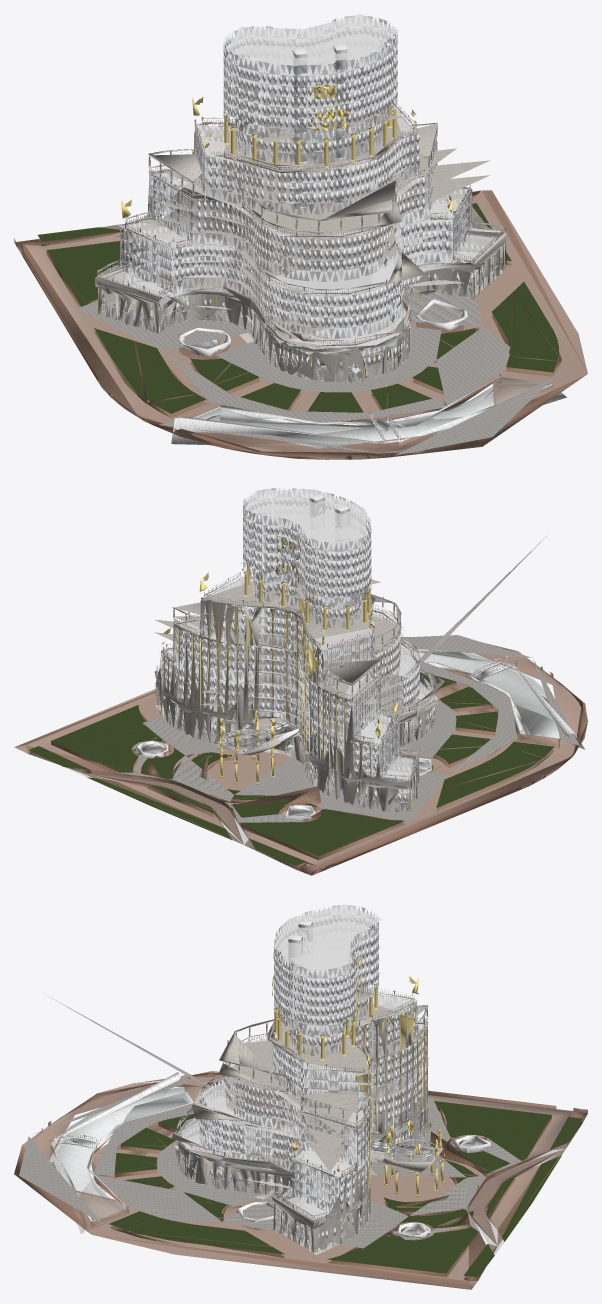
Rendered from casino_tower_lod1.glb.
3 renders of one model, top to bottom at view 1: azimuth 30°, elevation 25°; view 2: azimuth 150°, elevation 25°; view 3: azimuth 270°, elevation 25°, orthographic. The views are drawn at different scales.
Parts seen in each view (by area): view 1: casino_tower; view 2: casino_tower; view 3: casino_tower.
Boxes of the visible parts, bbox=[...] form: casino_tower: bbox=[14, 14, 587, 459]; casino_tower: bbox=[14, 488, 587, 875]; casino_tower: bbox=[14, 904, 587, 1289].
Bounding box in the file's own units: 117 × 64.37 × 132.
Materials: 19 (9 with a texture image).
